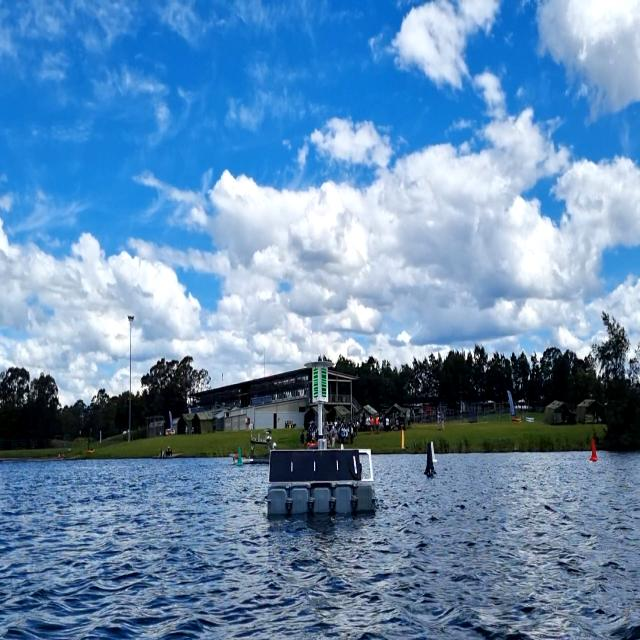led: (312, 367, 328, 401), (320, 367, 327, 400), (313, 368, 319, 398)
